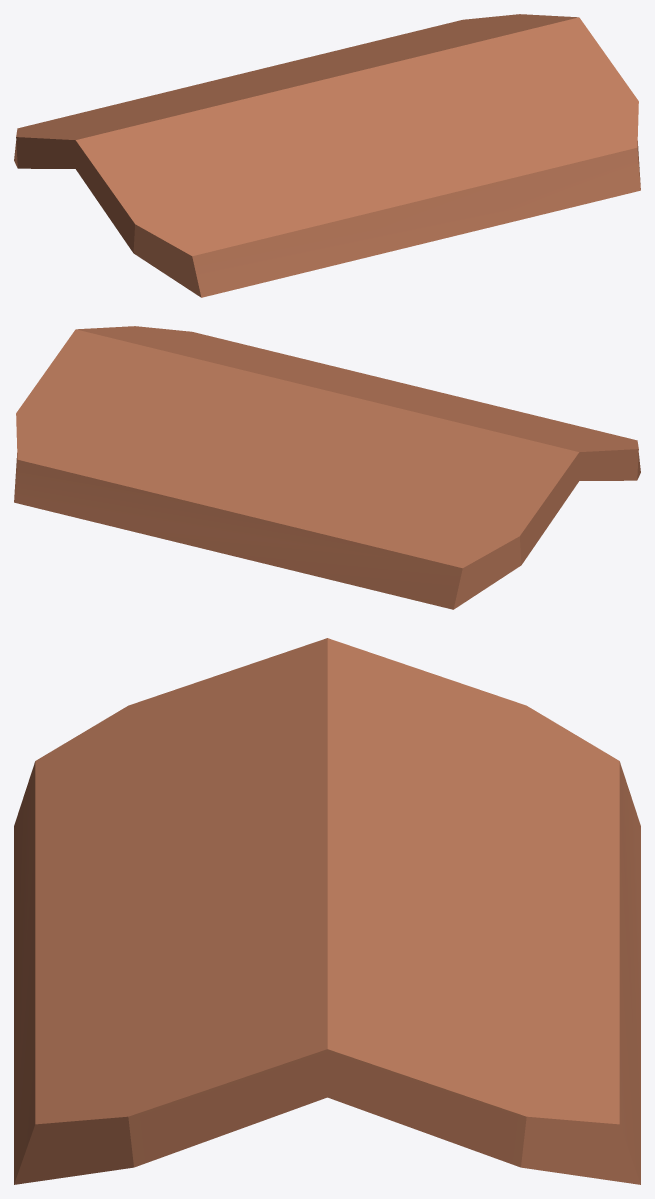
File: empire-roof-top-1m-empire.glb
The picture shows the model from 3 angles, top to bottom: view 1: azimuth 30°, elevation 25°; view 2: azimuth 150°, elevation 25°; view 3: azimuth 270°, elevation 25°; orthographic projection. The views are drawn at different scales.
Visible parts, largest first — view 1: SM_Roof_Top_1m_Empire; view 2: SM_Roof_Top_1m_Empire; view 3: SM_Roof_Top_1m_Empire.
Boxes of the visible parts, x1=… form: SM_Roof_Top_1m_Empire: x1=14, y1=14, x2=640, y2=297; SM_Roof_Top_1m_Empire: x1=14, y1=326, x2=640, y2=609; SM_Roof_Top_1m_Empire: x1=14, y1=638, x2=640, y2=1184.
Size of the model in its own units: 0.75 by 0.1378 by 0.4834.
